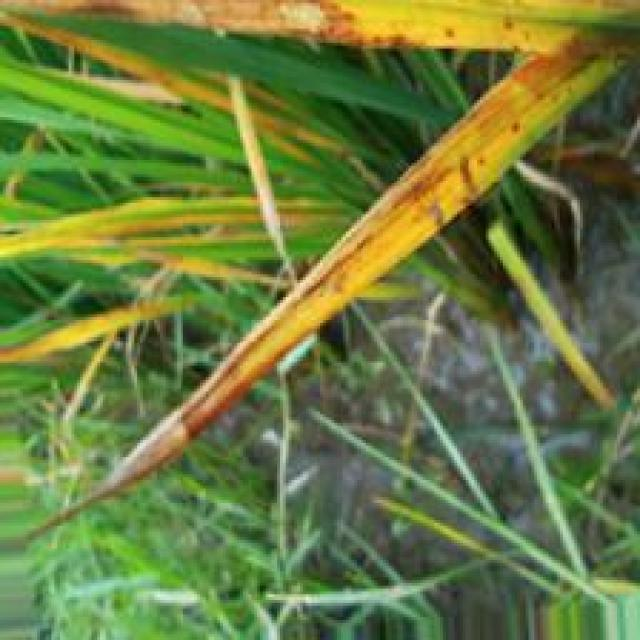Narrow_Brown_Leaf_Spot: (16, 0, 640, 531)
